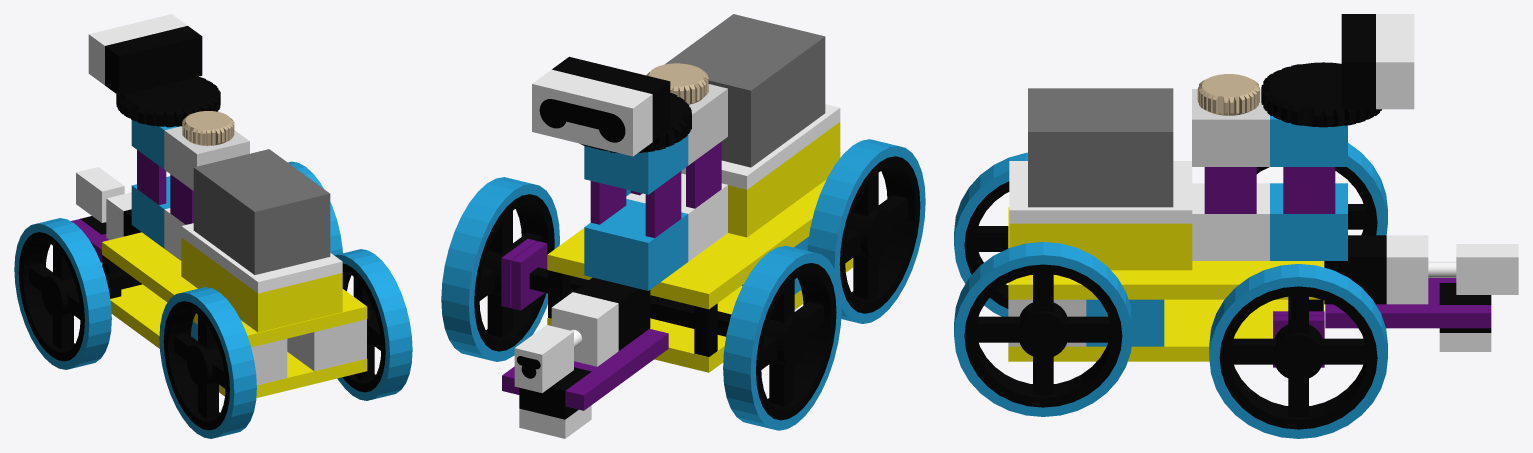
Rendered from rover_final_scaled_10x.fbx.
3 renders of one model, left to right at view 1: azimuth 30°, elevation 25°; view 2: azimuth 150°, elevation 25°; view 3: azimuth 270°, elevation 25°, orthographic. The views are drawn at different scales.
Parts seen in each view (by area): view 1: Powered Up HUB, Left Back Wheel, Left Front Wheel, Lego Spike HUB, Ultrasonic Sensor, Right Back Wheel, Base, Base.002, Ultrasonic Sensor Motor, US Sensor Primary Gear, Right Driving Motor, Steering Motor (+9 smaller); view 2: Left Front Wheel, Left Back Wheel, Powered Up HUB, Front Righ Wheel, Ultrasonic Sensor, Steering Motor, Base, Lego Spike HUB, Ultrasonic Sensor Motor, Force Sensor, Base Extension, Colour Distance Sensor (+12 smaller); view 3: Right Back Wheel, Front Righ Wheel, Powered Up HUB, Lego Spike HUB, Steering Motor, Ultrasonic Sensor Motor, Ultrasonic Sensor, Base, Base.002, Force Sensor, US Sensor Primary Gear, Left Back Wheel (+8 smaller).
Part boxes in pixels (x1,y1,x2,y2): Powered Up HUB: (193,149,330,274); Left Back Wheel: (159,287,256,438); Left Front Wheel: (14,218,111,369); Lego Spike HUB: (181,223,342,332); Ultrasonic Sensor: (88,14,202,95); Right Back Wheel: (334,249,412,400); Base: (102,232,367,347); Base.002: (110,284,367,397); Ultrasonic Sensor Motor: (131,120,249,190); US Sensor Primary Gear: (116,76,220,127); Right Driving Motor: (287,319,366,371); Steering Motor: (131,176,185,260); Left Front Wheel: (723,246,841,430); Left Back Wheel: (807,139,925,323); Powered Up HUB: (664,14,825,167); Front Righ Wheel: (441,177,559,361); Ultrasonic Sensor: (532,56,670,156); Steering Motor: (584,173,727,290); Base: (547,179,826,309); Lego Spike HUB: (681,104,840,237); Ultrasonic Sensor Motor: (584,84,727,194); Force Sensor: (551,277,650,366); Base Extension: (502,328,668,410); Colour Distance Sensor: (514,325,573,392); Right Back Wheel: (954,242,1132,416); Front Righ Wheel: (1209,264,1387,438); Powered Up HUB: (1028,88,1173,207); Lego Spike HUB: (1009,161,1192,270); Steering Motor: (1192,183,1347,260); Ultrasonic Sensor Motor: (1192,89,1347,166); Ultrasonic Sensor: (1341,14,1414,109); Base: (1008,207,1324,299); Base.002: (1008,299,1324,361); Force Sensor: (1324,235,1428,304); US Sensor Primary Gear: (1261,62,1381,127); Left Back Wheel: (954,152,1027,316).
Size of the model in its own units: 0.1684 by 0.1735 by 0.2718.
